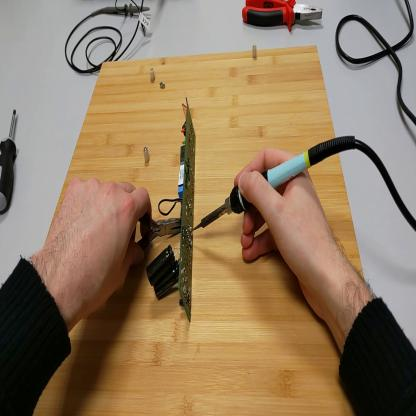hand: (232, 147, 341, 320), (41, 174, 154, 321)
high voltage board: (147, 94, 197, 324)
oscilloscope probe tip: (101, 4, 153, 22)
pliers: (242, 2, 323, 35), (140, 213, 181, 250)
screwdriver-: (2, 111, 20, 216)
welder probe tip: (193, 138, 356, 233)
working area: (35, 45, 366, 416)
